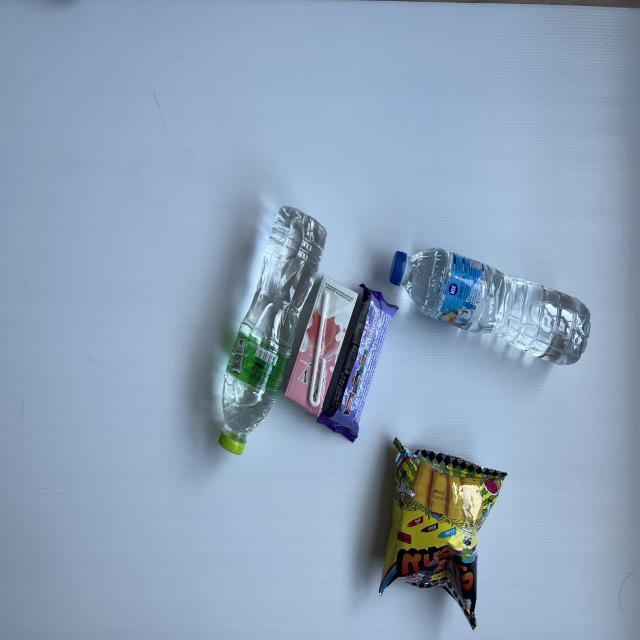cracker: (317, 283, 398, 443)
milk: (284, 272, 358, 420)
snack: (378, 436, 507, 630)
water: (216, 203, 328, 455), (389, 243, 592, 369)
